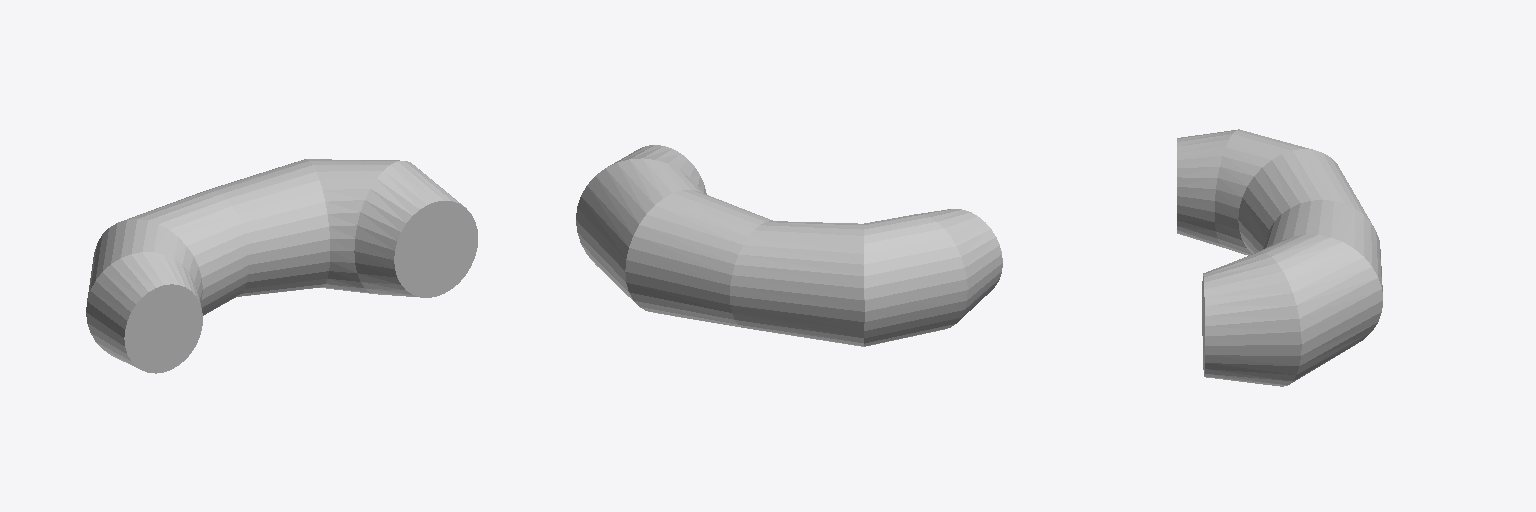
Rendered from sword2_Cylinder_006.obj.
3 renders of one model, left to right at view 1: azimuth 30°, elevation 25°; view 2: azimuth 150°, elevation 25°; view 3: azimuth 270°, elevation 25°, orthographic.
Parts seen in each view (by area): view 1: Cylinder.006; view 2: Cylinder.006; view 3: Cylinder.006.
Boxes of the visible parts, x1=… form: Cylinder.006: x1=86, y1=159, x2=477, y2=373; Cylinder.006: x1=576, y1=145, x2=1002, y2=346; Cylinder.006: x1=1177, y1=129, x2=1382, y2=386.
Size of the model in its own units: 0.3999 by 0.1295 by 0.1936.